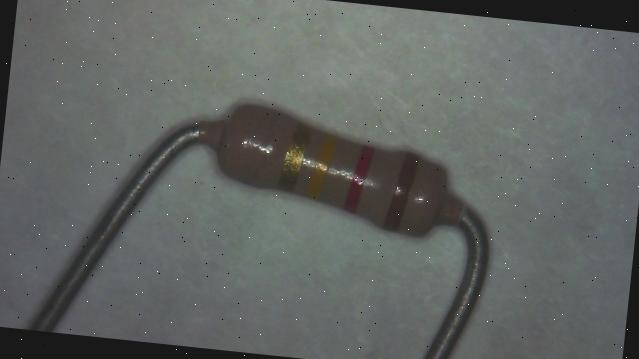brown: (385, 149, 418, 234)
gold: (276, 122, 308, 195)
red: (342, 143, 375, 214)
resistor: (191, 78, 482, 267)
yellow: (308, 132, 338, 198)
